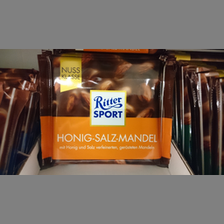chocolate: (37, 53, 174, 168)
